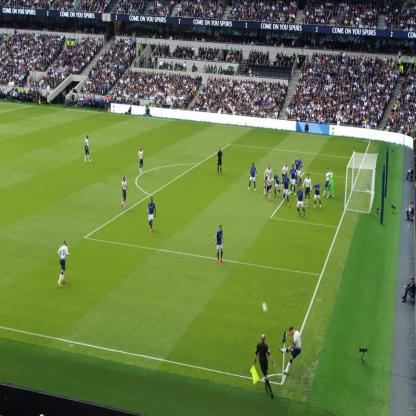corner kick: (249, 279, 326, 408)
